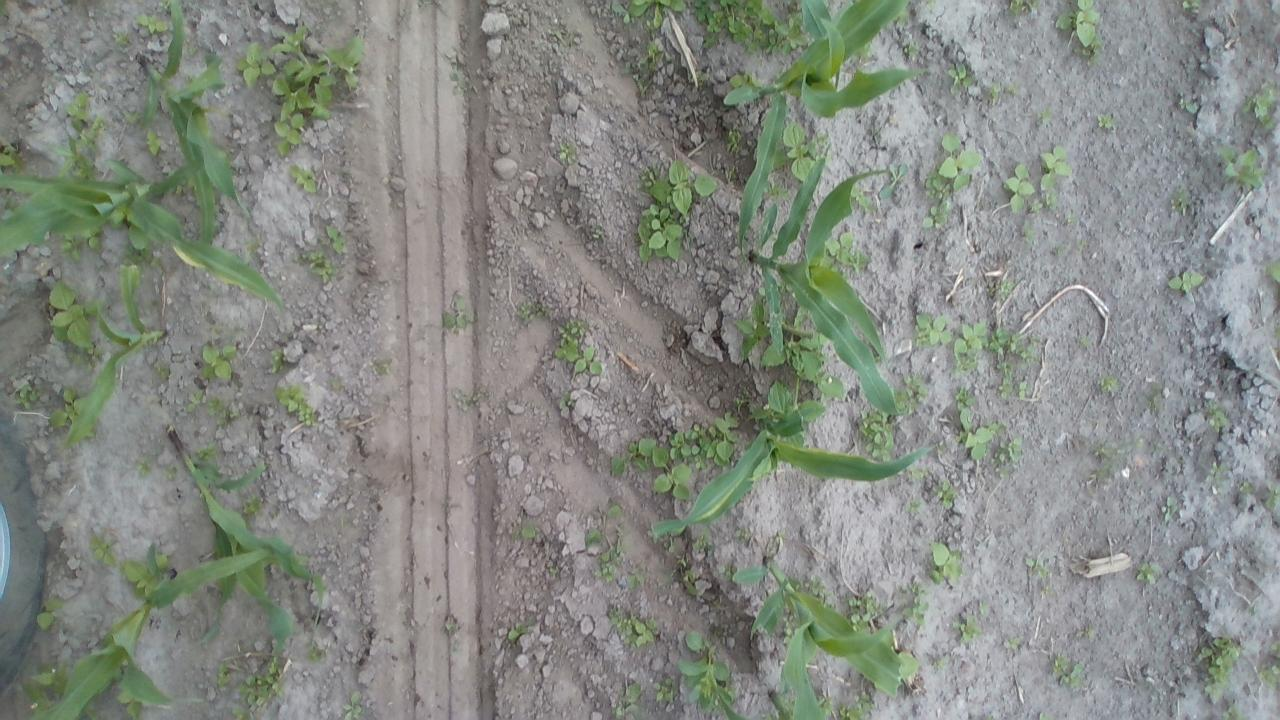Maize: (724, 0, 920, 260), (0, 154, 296, 311), (750, 142, 901, 418), (161, 424, 325, 656), (652, 404, 933, 537), (27, 542, 202, 720), (731, 556, 904, 718), (139, 0, 247, 250), (67, 260, 166, 454), (704, 657, 742, 720), (766, 688, 791, 719)
Weeds: (236, 25, 364, 156), (610, 410, 738, 497), (640, 153, 711, 258), (695, 0, 804, 58), (762, 333, 852, 400), (676, 628, 738, 711), (44, 279, 100, 355), (925, 130, 981, 198), (989, 328, 1038, 401), (745, 384, 826, 424), (1082, 433, 1134, 492), (555, 316, 600, 376), (56, 117, 101, 176), (240, 657, 290, 710), (734, 292, 774, 358), (1219, 140, 1267, 190), (784, 123, 822, 185), (1198, 633, 1234, 698), (956, 412, 1004, 460), (1054, 0, 1102, 48), (607, 608, 660, 650), (120, 555, 175, 594), (582, 501, 628, 547), (954, 320, 989, 378), (629, 1, 694, 30), (20, 662, 64, 704), (196, 342, 241, 382), (668, 550, 704, 600), (858, 410, 894, 460), (926, 540, 968, 582), (1241, 81, 1280, 126), (278, 382, 316, 428), (1040, 144, 1075, 192), (904, 577, 935, 630), (1004, 163, 1035, 216), (826, 233, 867, 272), (917, 311, 956, 351), (442, 292, 478, 329), (892, 375, 928, 412), (995, 439, 1027, 480), (1052, 650, 1086, 688), (612, 680, 644, 720), (596, 546, 622, 594), (1149, 384, 1181, 422), (846, 595, 880, 628), (877, 162, 908, 198), (952, 614, 982, 650), (286, 162, 319, 194), (48, 390, 77, 426), (1204, 400, 1234, 434), (34, 596, 60, 632), (88, 537, 115, 571), (947, 63, 978, 91), (8, 376, 36, 406), (989, 278, 1020, 305), (645, 38, 674, 66), (308, 251, 334, 282), (340, 689, 365, 720), (1169, 270, 1204, 292), (921, 203, 948, 231), (514, 516, 543, 542), (730, 71, 769, 90), (116, 690, 142, 718), (447, 68, 472, 97), (518, 300, 546, 325), (1139, 556, 1164, 584), (326, 224, 349, 254), (62, 92, 90, 115), (194, 442, 224, 463), (138, 13, 170, 32), (1172, 188, 1197, 212), (1176, 88, 1200, 112), (1258, 664, 1280, 690), (1078, 43, 1104, 65), (938, 480, 958, 508), (0, 142, 23, 166), (82, 227, 104, 251), (152, 358, 176, 379), (652, 678, 676, 699), (1162, 492, 1178, 523), (1263, 482, 1280, 511), (809, 575, 830, 598), (630, 566, 650, 590), (1026, 556, 1050, 576), (558, 141, 578, 165), (634, 76, 656, 97), (724, 558, 744, 581), (212, 663, 230, 688), (1018, 220, 1037, 243), (184, 388, 200, 415), (1224, 702, 1248, 720), (793, 302, 808, 330), (854, 691, 874, 712), (206, 395, 228, 414), (956, 390, 978, 409), (242, 494, 264, 513), (727, 131, 745, 154), (270, 348, 286, 373), (306, 642, 326, 662), (851, 188, 872, 207), (446, 49, 468, 67), (144, 132, 162, 154), (836, 706, 864, 720), (1006, 0, 1045, 10), (64, 234, 80, 258), (374, 357, 396, 374), (696, 532, 712, 554), (901, 42, 920, 60), (1074, 624, 1094, 641), (1004, 636, 1025, 652), (1268, 256, 1280, 284), (509, 623, 527, 641), (984, 84, 998, 106), (1102, 375, 1120, 391), (329, 374, 344, 393), (1180, 0, 1208, 10), (217, 413, 238, 426), (1238, 479, 1254, 496), (165, 464, 180, 482), (818, 695, 832, 714), (1067, 212, 1084, 227), (1098, 112, 1115, 127), (1208, 462, 1226, 476), (928, 654, 944, 669), (979, 602, 994, 618), (906, 499, 922, 514), (908, 466, 928, 478), (137, 457, 153, 472), (1078, 334, 1094, 348), (230, 704, 244, 720), (1054, 241, 1071, 254), (112, 33, 130, 45), (778, 282, 792, 295), (1006, 82, 1021, 93), (1046, 193, 1057, 206), (1030, 200, 1044, 210), (558, 398, 570, 408), (1042, 584, 1052, 596), (1268, 642, 1280, 652), (1273, 323, 1280, 340), (1078, 240, 1088, 251), (1042, 110, 1053, 120), (157, 2, 168, 10), (919, 1, 938, 4)
